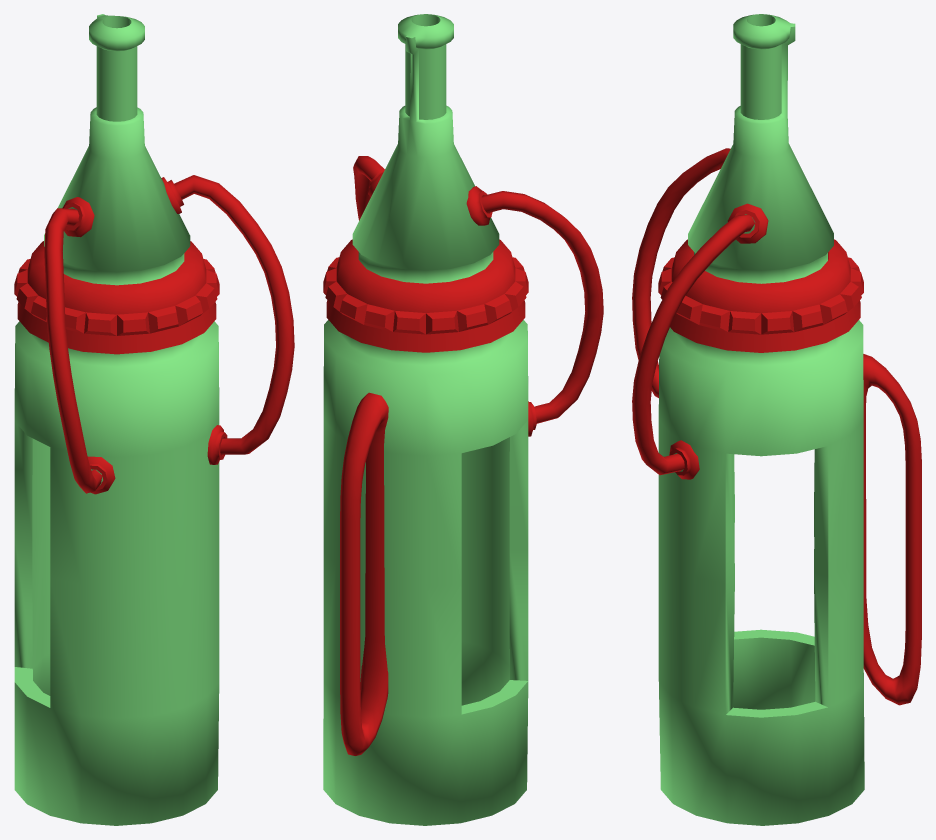
File: gun3.fbx
The picture shows the model from 3 angles, left to right: view 1: azimuth 30°, elevation 25°; view 2: azimuth 150°, elevation 25°; view 3: azimuth 270°, elevation 25°; orthographic projection.
Visible parts, largest first — view 1: Gun_Coloured; view 2: Gun_Coloured; view 3: Gun_Coloured.
Boxes of the visible parts, x1,y1,x2,y2 form: Gun_Coloured: [14, 14, 294, 825]; Gun_Coloured: [323, 14, 603, 825]; Gun_Coloured: [632, 14, 921, 825].
Size of the model in its own units: 7.32 by 22.55 by 7.77.
